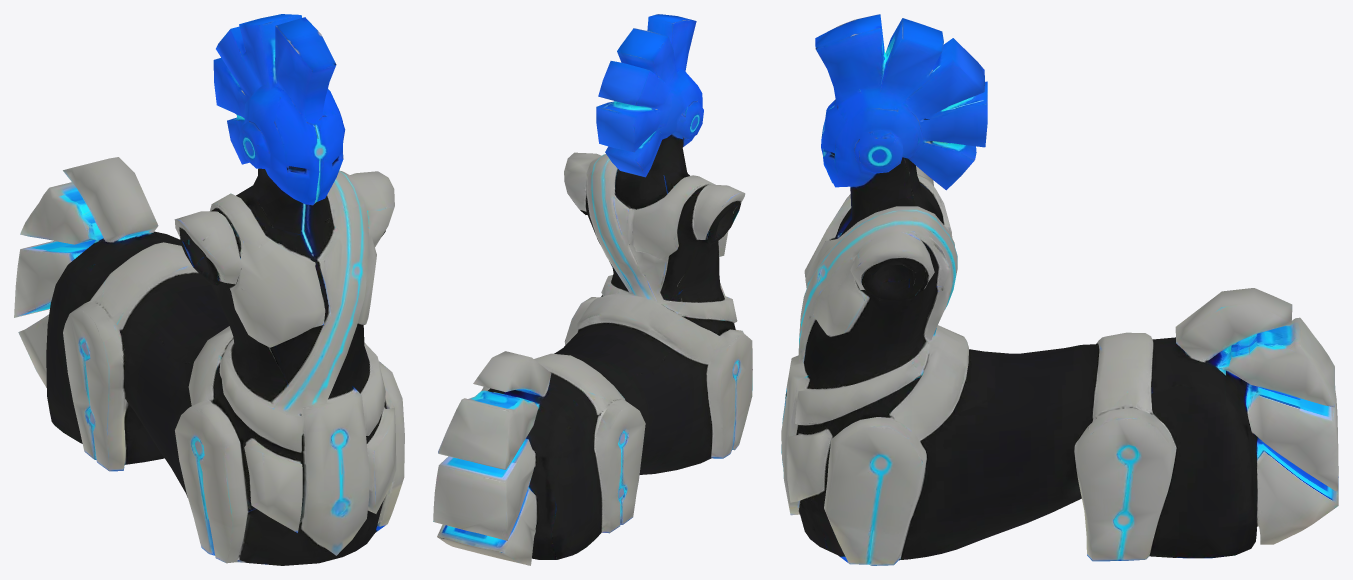
The model's file is synthaur.glb.
3 renders of one model, left to right at view 1: azimuth 30°, elevation 25°; view 2: azimuth 150°, elevation 25°; view 3: azimuth 270°, elevation 25°, orthographic. The views are drawn at different scales.
Parts seen in each view (by area): view 1: Mesh1.0; view 2: Mesh1.0; view 3: Mesh1.0.
Part boxes in pixels (x1,y1,x2,y2): Mesh1.0: [14, 14, 404, 565]; Mesh1.0: [433, 14, 752, 565]; Mesh1.0: [781, 14, 1338, 565].
Size of the model in its own units: 0.4961 by 1.2 by 1.2.
1 material, 1 textured.
